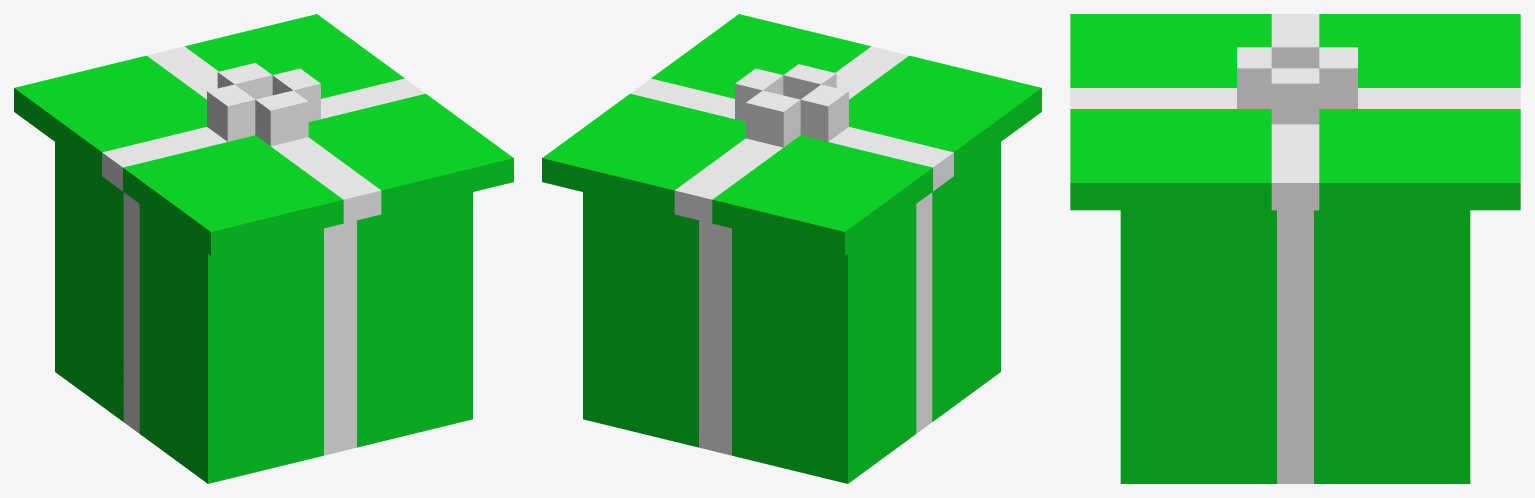
Rendered from VERDE.fbx.
3 renders of one model, left to right at view 1: azimuth 30°, elevation 25°; view 2: azimuth 150°, elevation 25°; view 3: azimuth 270°, elevation 25°, orthographic. The views are drawn at different scales.
Parts seen in each view (by area): view 1: Cube.002; view 2: Cube.002; view 3: Cube.002.
Boxes of the visible parts, bbox=[...] form: Cube.002: bbox=[14, 14, 513, 483]; Cube.002: bbox=[542, 14, 1041, 483]; Cube.002: bbox=[1070, 14, 1520, 483].
Bounding box in the file's own units: 126 × 123 × 142.
